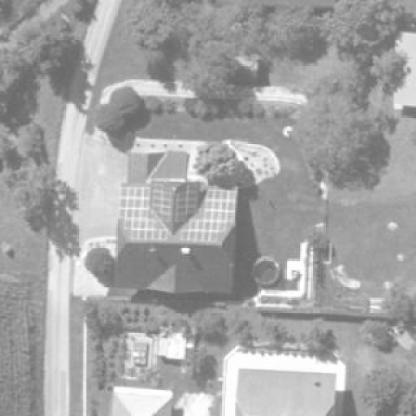solar-pv-panel: (180, 191, 234, 241), (118, 189, 166, 240), (176, 183, 197, 220), (151, 183, 171, 220)
